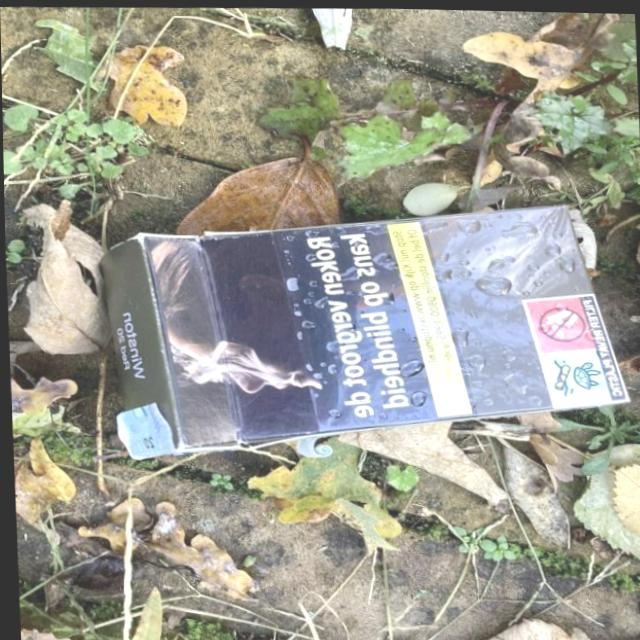Paper: (81, 186, 633, 471)
